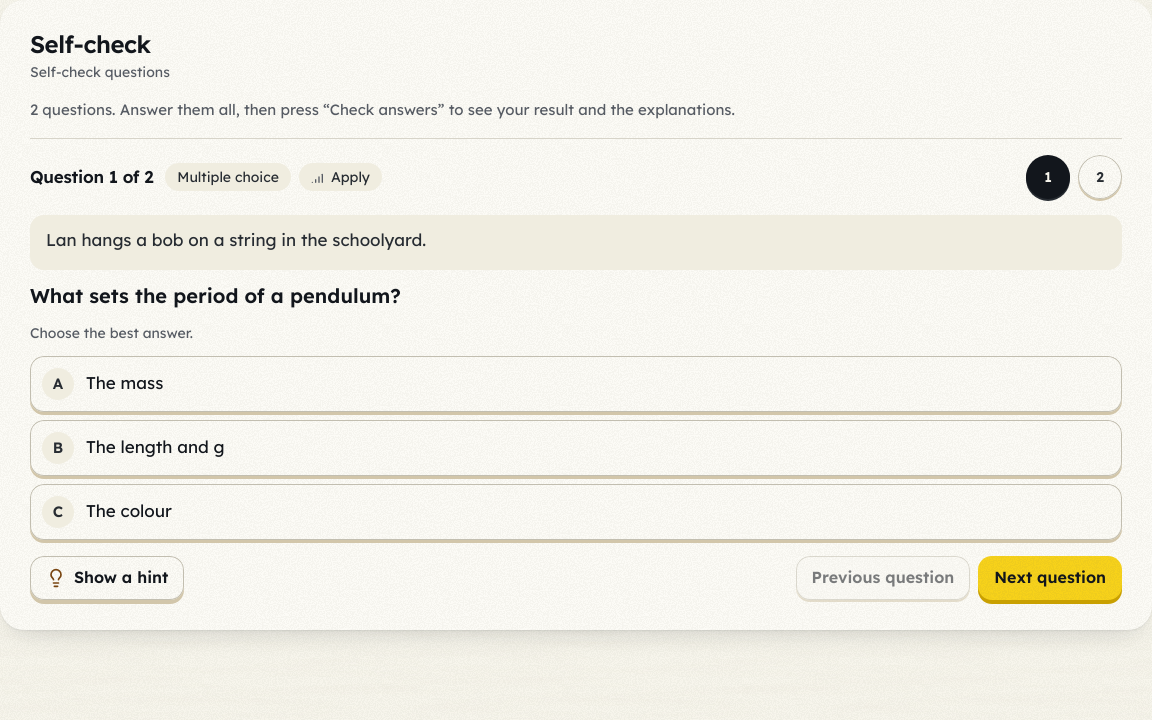
it: QuizBlock learner view: situation, hint and feedback › shows the situation above the question, the level beside the kind and a hint only on request
Expected: the text "Lan hangs a bob on a string in the schoolyard." is shown, [30,215,1122,270]
Expected: the element showing "Apply" is shown, [299,163,382,191]
What coordinates should you click on to do the following:
click the button "Show a hint"
I would click on:
 (107, 578)
Its box is [30,556,184,600].
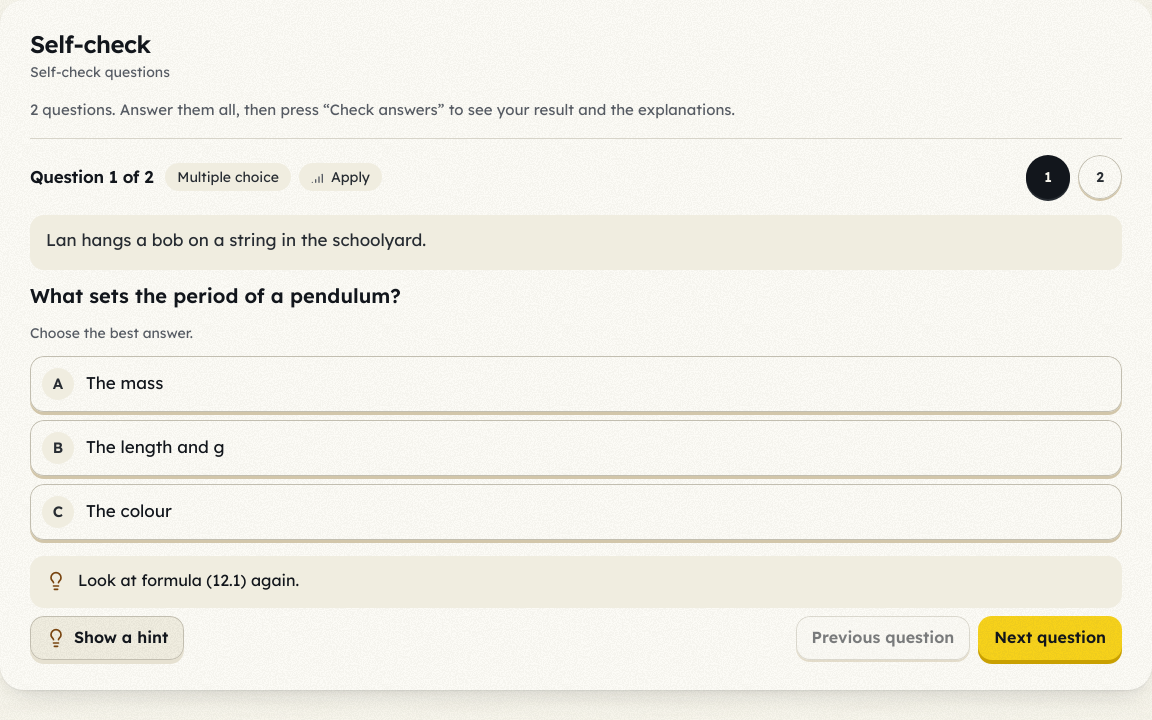
Result: the button "Show a hint" is expanded
What coordinates should you click on to do the following:
click the button "Show a hint"
I would click on:
 (107, 638)
Its box is [30,616,184,660].
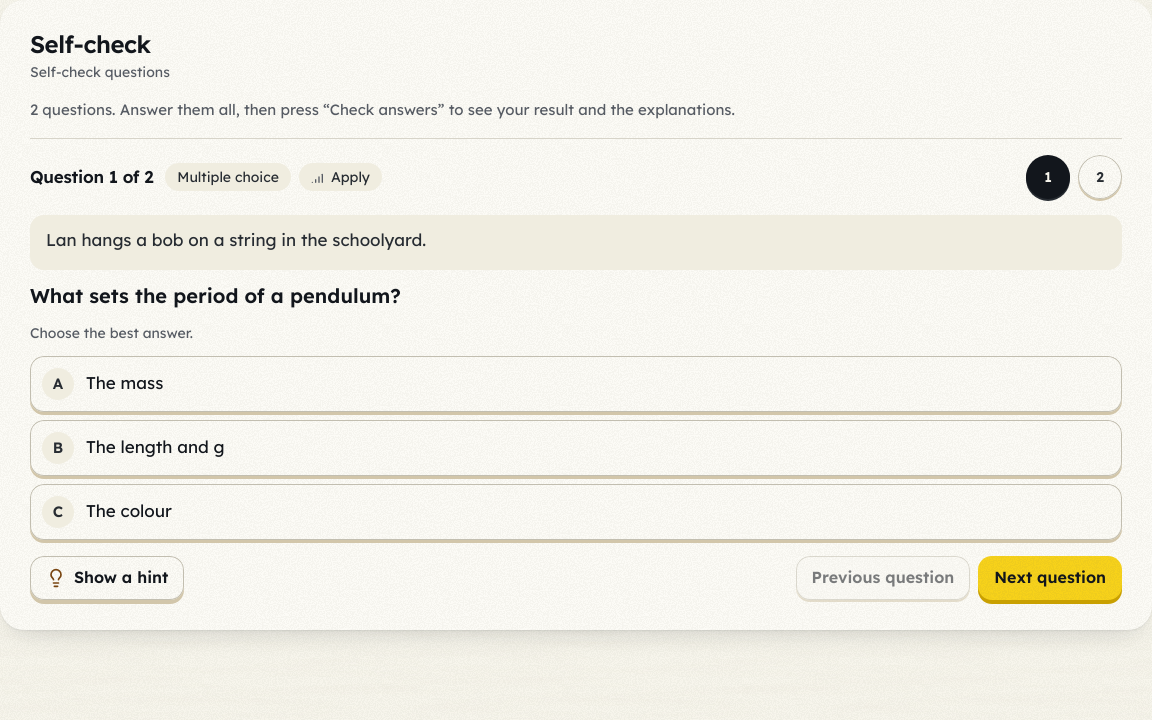
What coordinates should you click on to do the following:
click the button "Next question"
I would click on:
 (1050, 578)
Its box is [978,556,1122,600].
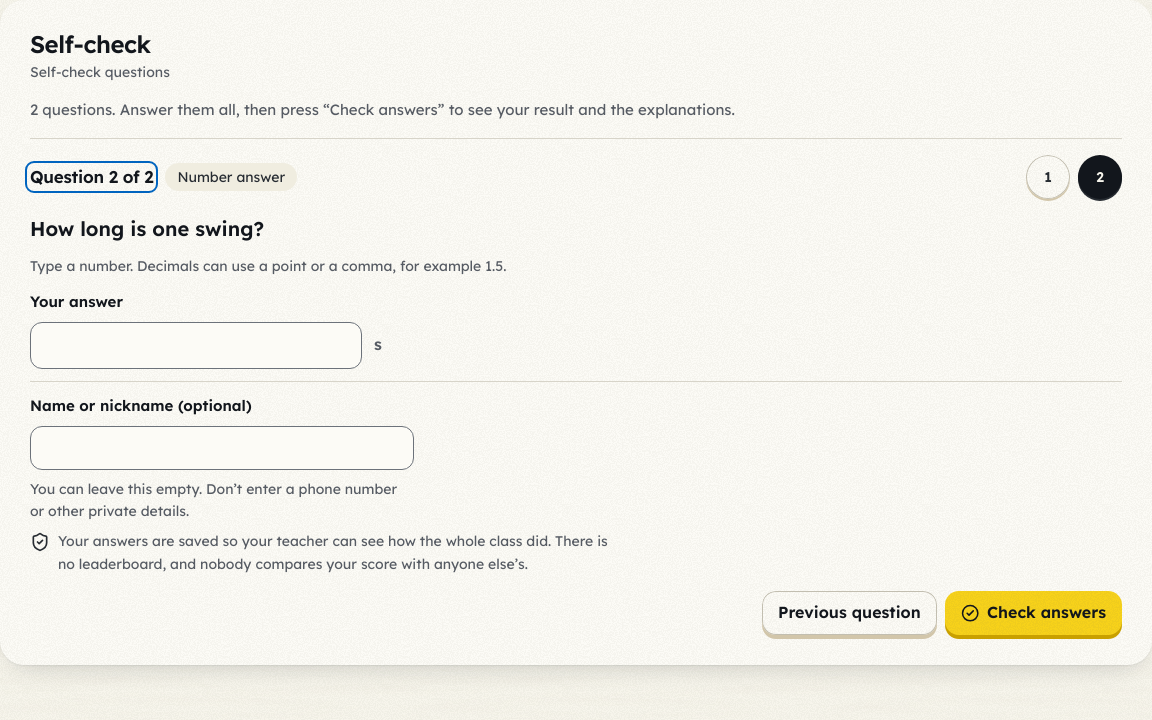
Result: the button "Show a hint" is gone
